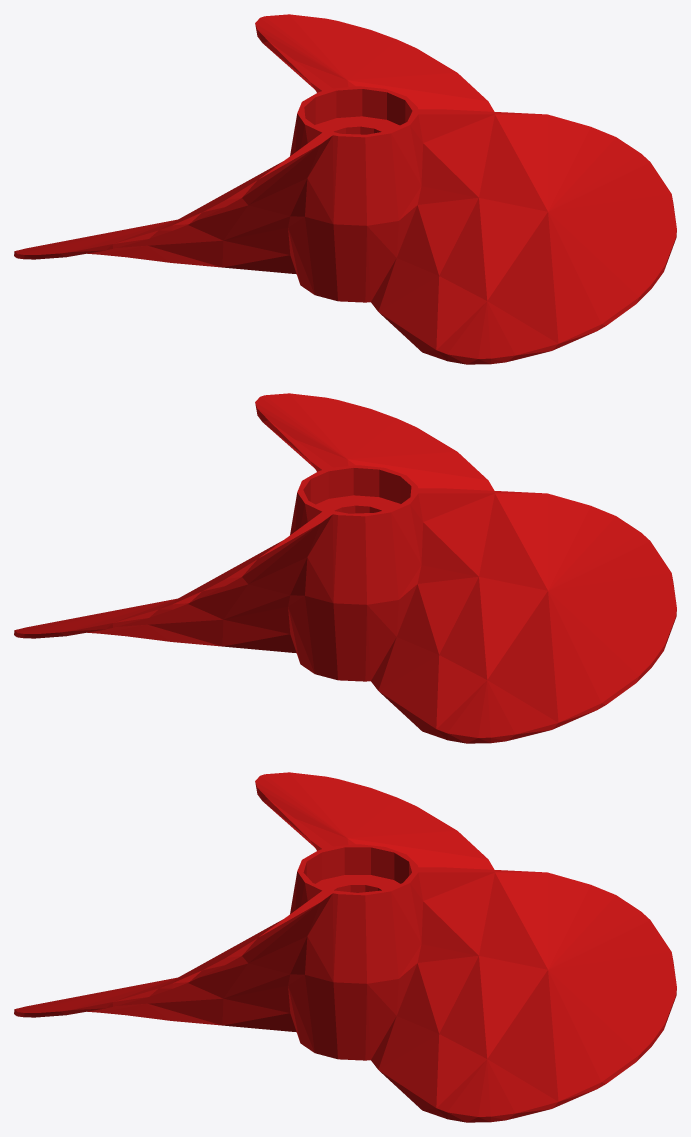
File: PROPELLER.fbx
3 views of the same model, one above another, from view 1: azimuth 30°, elevation 25°; view 2: azimuth 150°, elevation 25°; view 3: azimuth 270°, elevation 25° (orthographic).
Visible parts, largest first — view 1: PROPELLER; view 2: PROPELLER; view 3: PROPELLER.
Part boxes in pixels (bbox=[...]): PROPELLER: bbox=[14, 14, 676, 364]; PROPELLER: bbox=[14, 393, 676, 743]; PROPELLER: bbox=[14, 772, 676, 1122].
Size of the model in its own units: 10.37 by 3 by 10.91.
